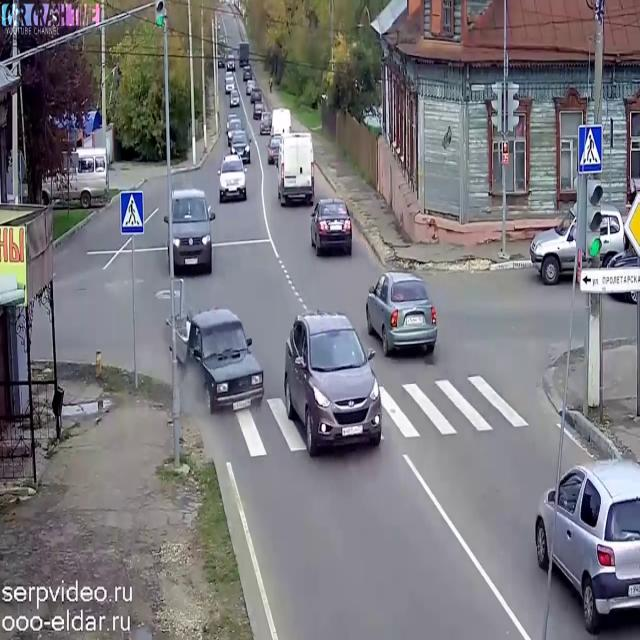Accident: (154, 305, 263, 433)
